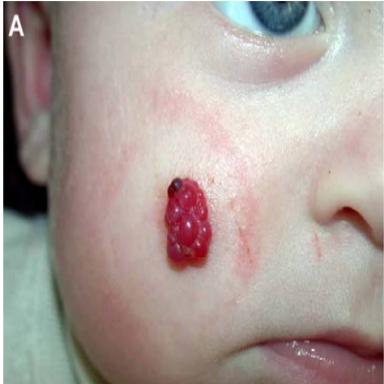Hemangiome: (165, 177, 212, 269)
